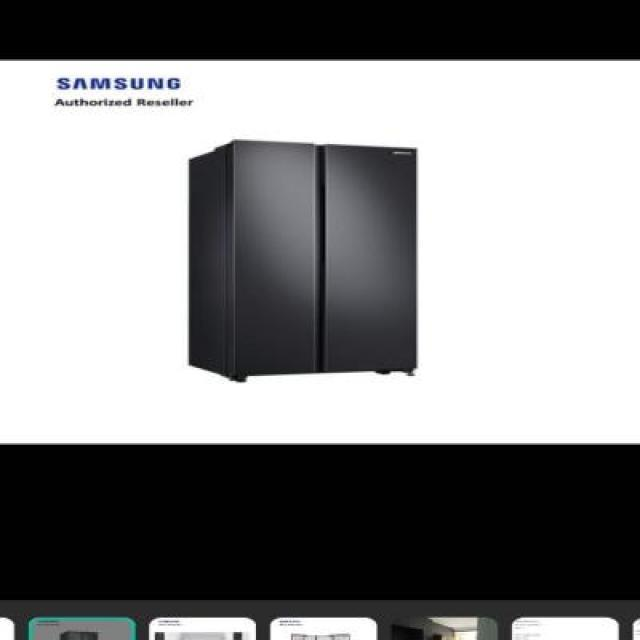refrigerator: (218, 139, 418, 379)
